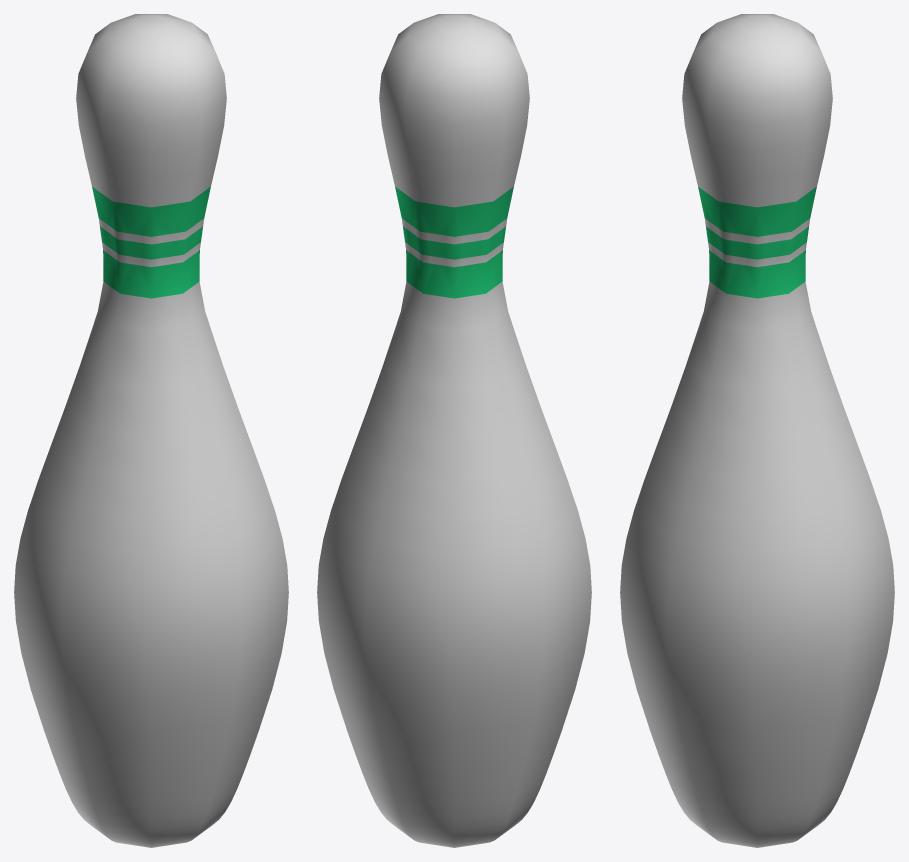
File: Pin.dae
3 renders of one model, left to right at view 1: azimuth 30°, elevation 25°; view 2: azimuth 150°, elevation 25°; view 3: azimuth 270°, elevation 25°, orthographic.
Parts seen in each view (by area): view 1: Pin; view 2: Pin; view 3: Pin.
Boxes of the visible parts, <box> form: Pin: <box>14,14,288,847</box>; Pin: <box>317,14,591,847</box>; Pin: <box>620,14,894,847</box>.
Bounding box in the file's own units: 1.15 × 1.16 × 3.8.
